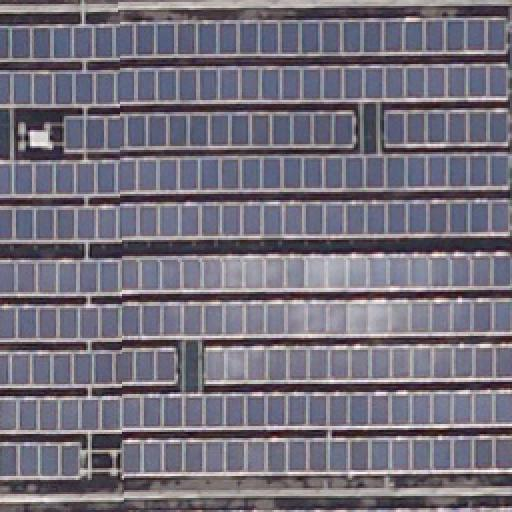solar-panel: (0, 297, 512, 343), (0, 197, 512, 243), (0, 153, 512, 199), (1, 65, 511, 111), (0, 390, 512, 434), (0, 254, 512, 298), (0, 18, 508, 62), (120, 435, 512, 477), (62, 110, 354, 154), (204, 345, 512, 383), (0, 348, 176, 388), (382, 110, 510, 150), (121, 504, 511, 512), (0, 442, 80, 478)
